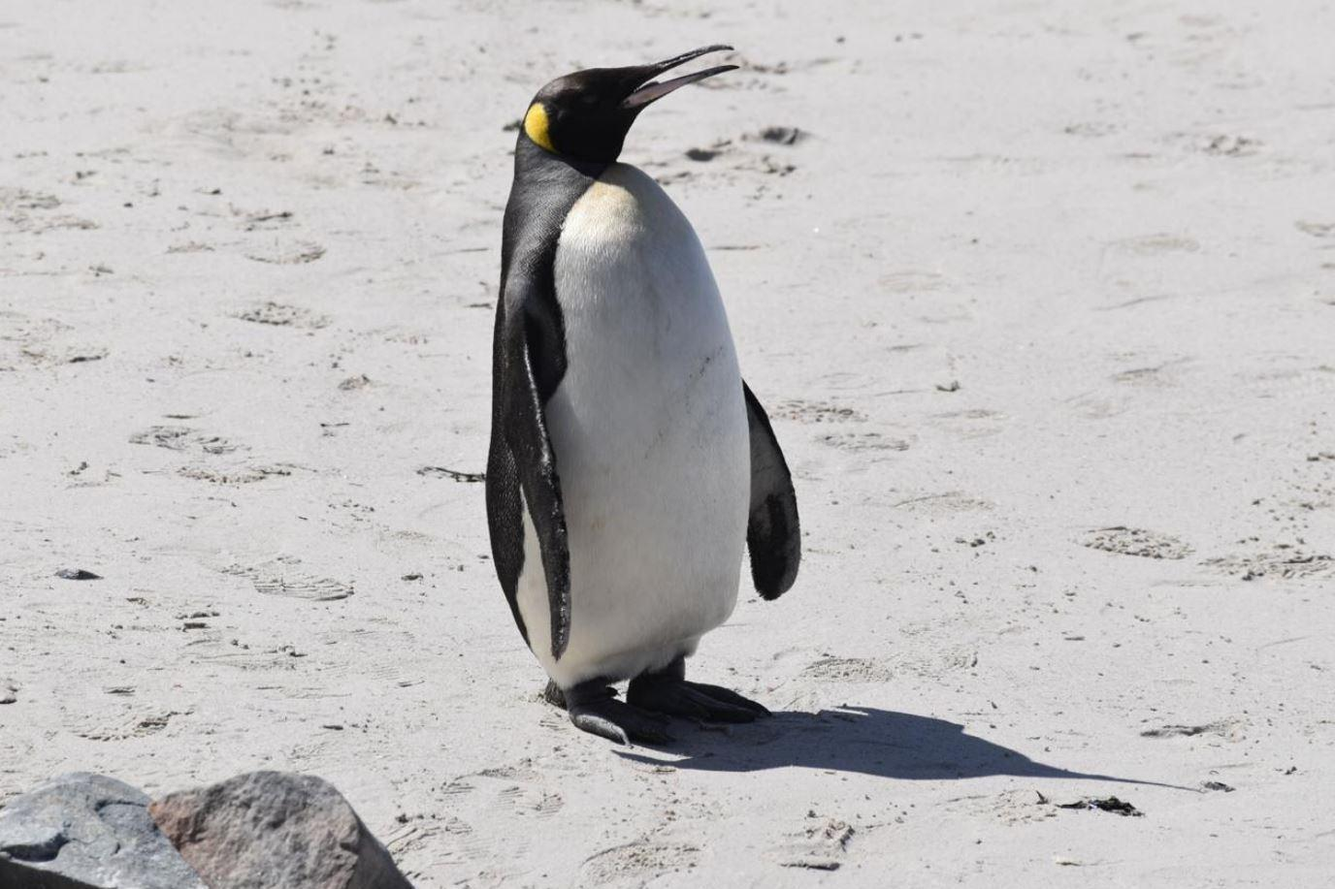Penguin: (485, 45, 800, 743)
